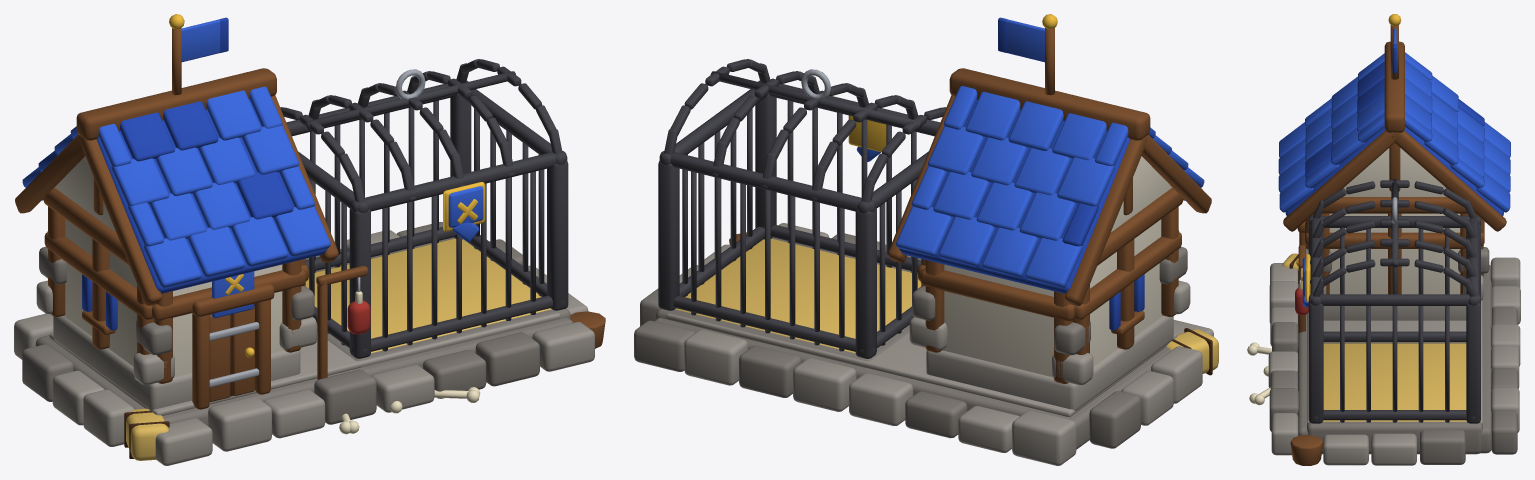
Rendered from Bestiary.glb.
The picture shows the model from 3 angles, left to right: view 1: azimuth 30°, elevation 25°; view 2: azimuth 150°, elevation 25°; view 3: azimuth 270°, elevation 25°; orthographic projection. The views are drawn at different scales.
Parts seen in each view (by area): view 1: Bestiary; view 2: Bestiary; view 3: Bestiary.
Boxes of the visible parts, x1=… form: Bestiary: x1=14, y1=14, x2=605, y2=465; Bestiary: x1=634, y1=14, x2=1218, y2=465; Bestiary: x1=1247, y1=14, x2=1520, y2=465.
Bounding box in the file's own units: 4.9 × 3.65 × 2.96.
